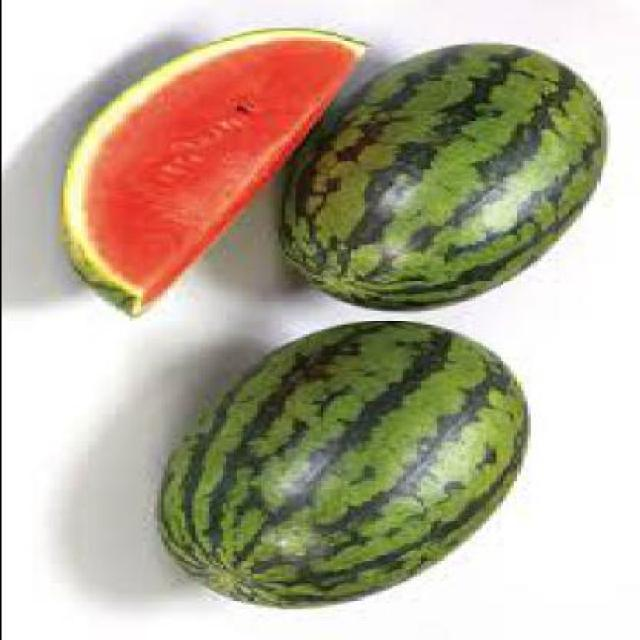BIODEGRADABLE: (159, 321, 528, 606), (61, 29, 364, 314), (279, 45, 605, 308)
